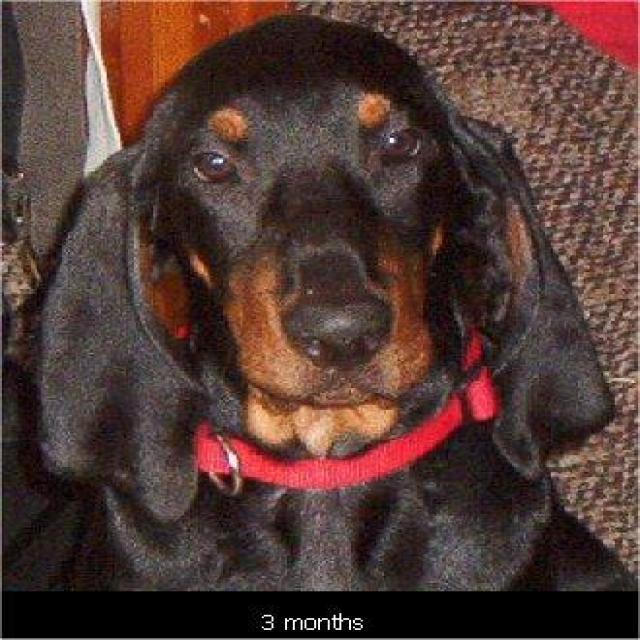dog: (48, 10, 631, 533)
